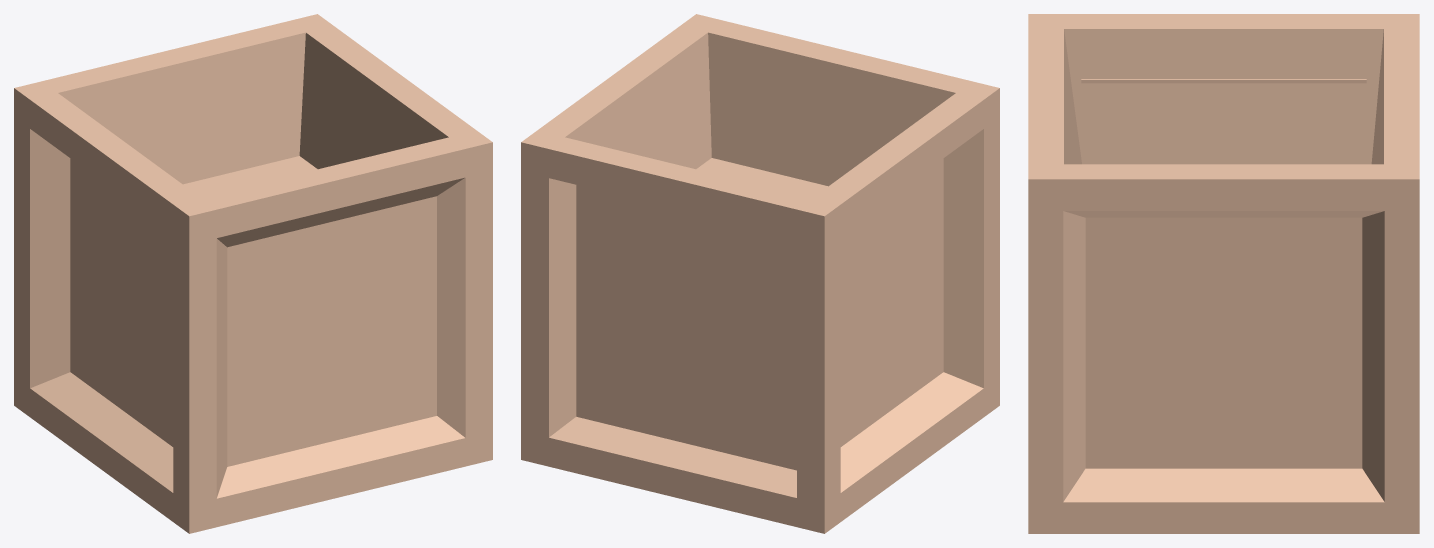
The model's file is OpenCrate.fbx.
The picture shows the model from 3 angles, left to right: view 1: azimuth 30°, elevation 25°; view 2: azimuth 150°, elevation 25°; view 3: azimuth 270°, elevation 25°; orthographic projection. The views are drawn at different scales.
Parts seen in each view (by area): view 1: createopen; view 2: createopen; view 3: createopen.
Boxes of the visible parts, x1,y1,x2,y2 form: createopen: (14, 14, 492, 533); createopen: (521, 14, 999, 533); createopen: (1028, 14, 1419, 533).
Size of the model in its own units: 46.35 by 46.35 by 46.35.
